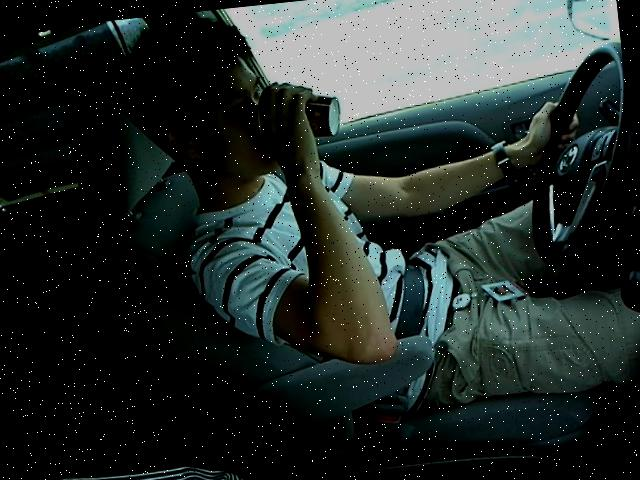c4 - Drinking: (104, 0, 639, 390)
